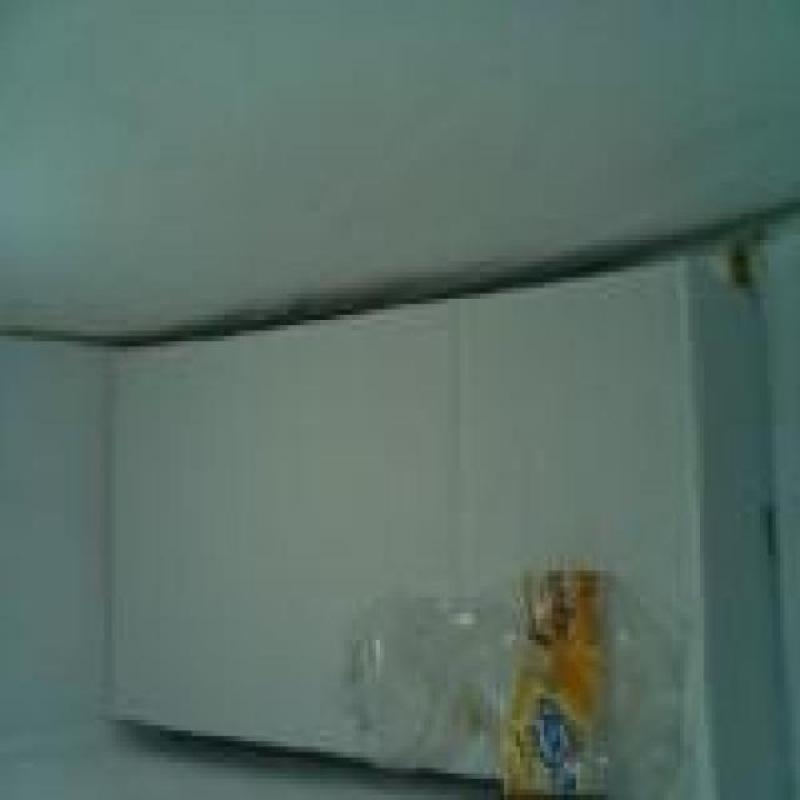botella: (340, 565, 692, 800)
